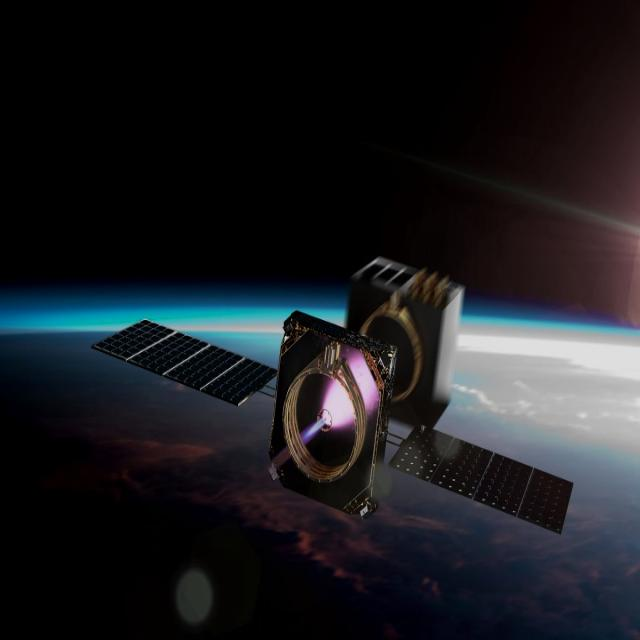medium_debris: (83, 242, 592, 532)
